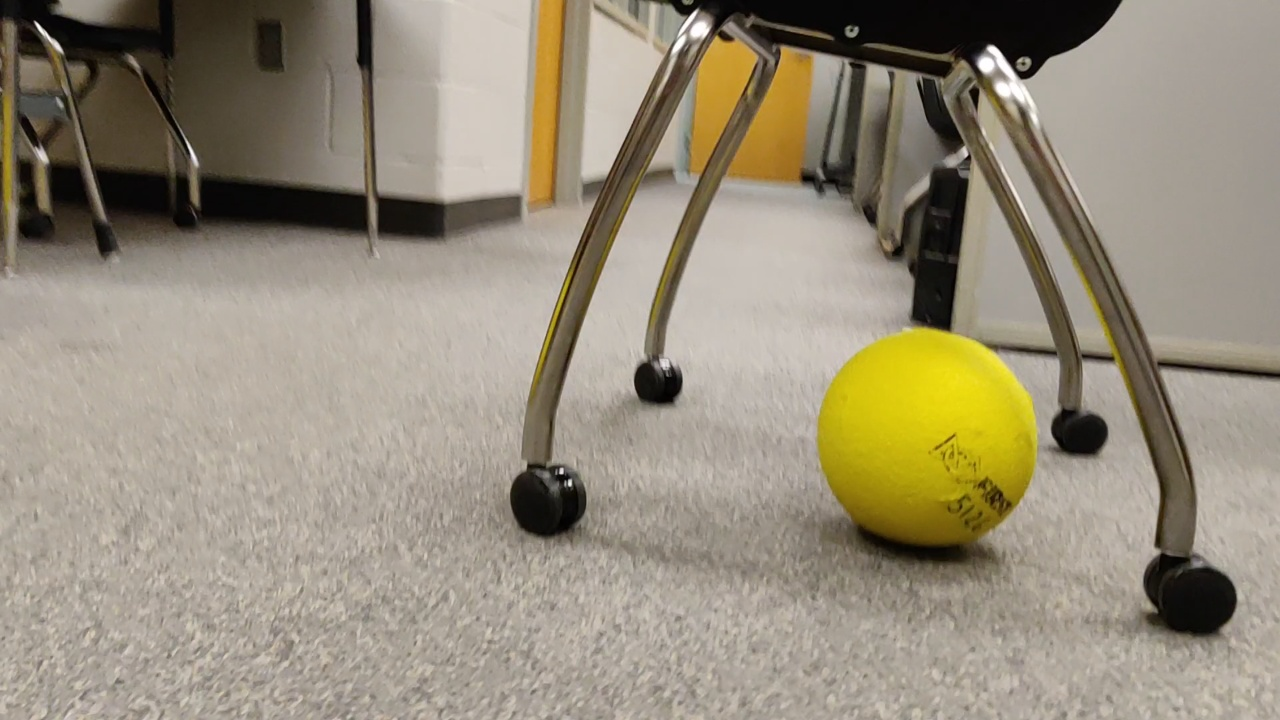Ball: (812, 328, 1050, 564)
